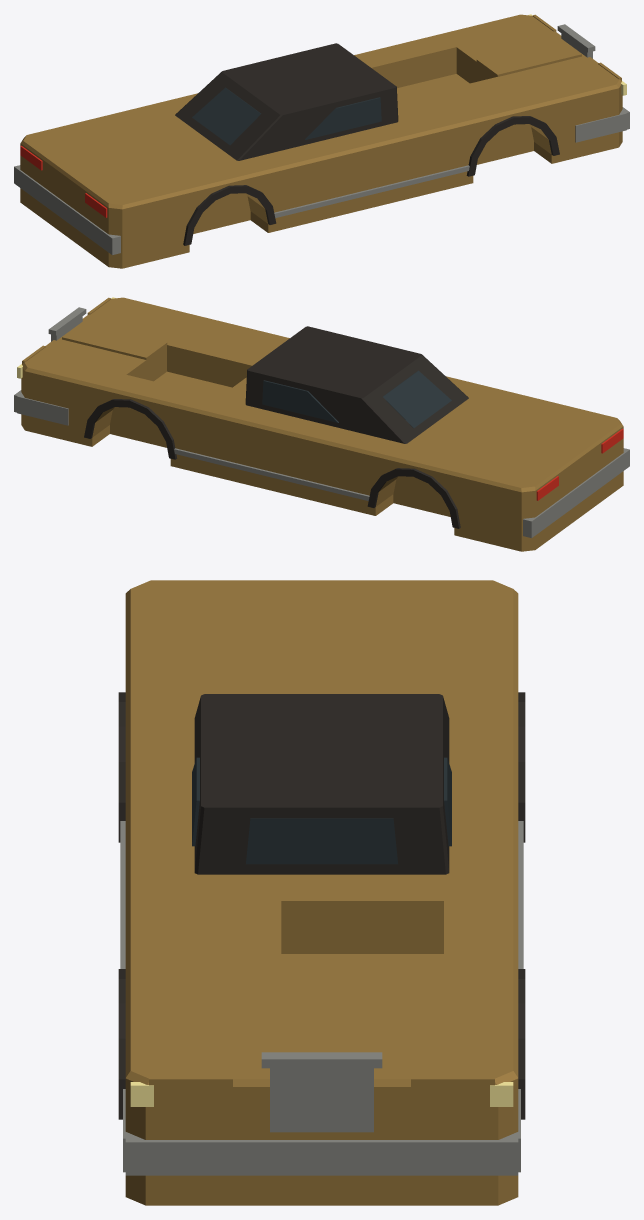
File: base_lincoln.glb
3 renders of one model, top to bottom at view 1: azimuth 30°, elevation 25°; view 2: azimuth 150°, elevation 25°; view 3: azimuth 270°, elevation 25°, orthographic. The views are drawn at different scales.
Visible parts, largest first — view 1: base_lincoln; view 2: base_lincoln; view 3: base_lincoln.
Part boxes in pixels (<box>): base_lincoln: <box>14,14,629,268</box>; base_lincoln: <box>14,297,629,551</box>; base_lincoln: <box>118,580,525,1205</box>.
Bounding box in the file's own units: 7.12 × 1.26 × 2.42.
